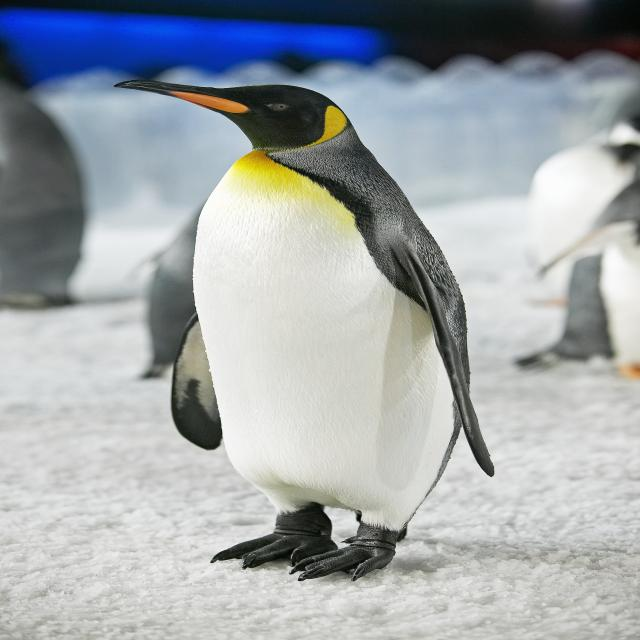penguin: (117, 80, 494, 580)
